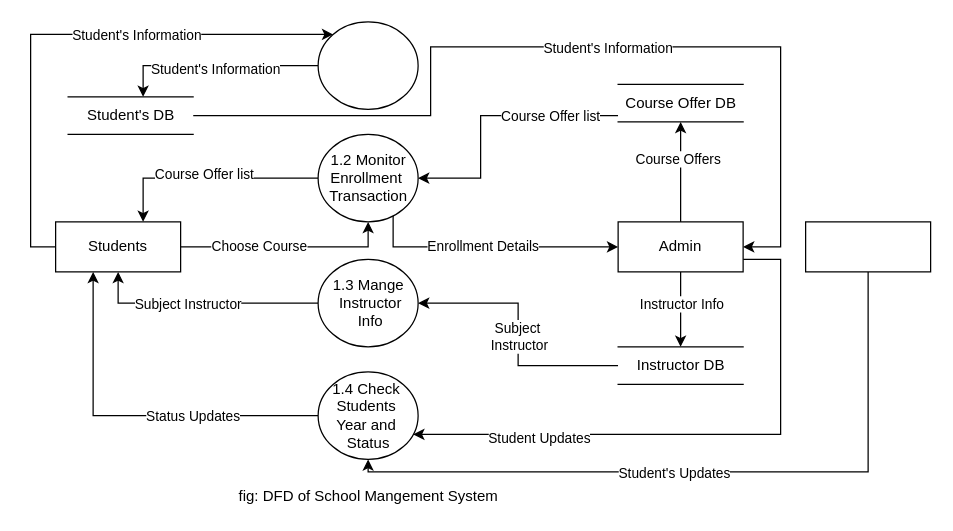
The diagram is 953 pixels wide and 531 high, and some of its shapes have lost their labels. The box of each missing label's shape, as (x1, y1, x2, y2) in pixels:
1.1 Manage Student Information: (317, 21, 418, 109)
Teachers: (804, 221, 931, 272)
